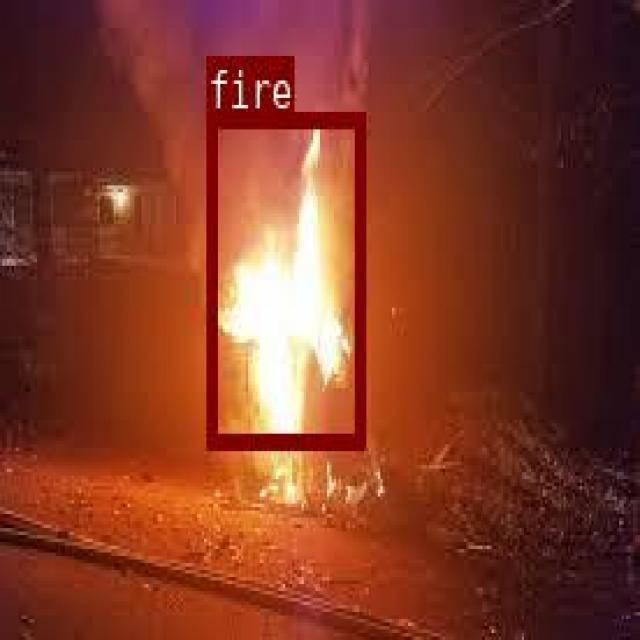fire: (205, 109, 363, 447)
